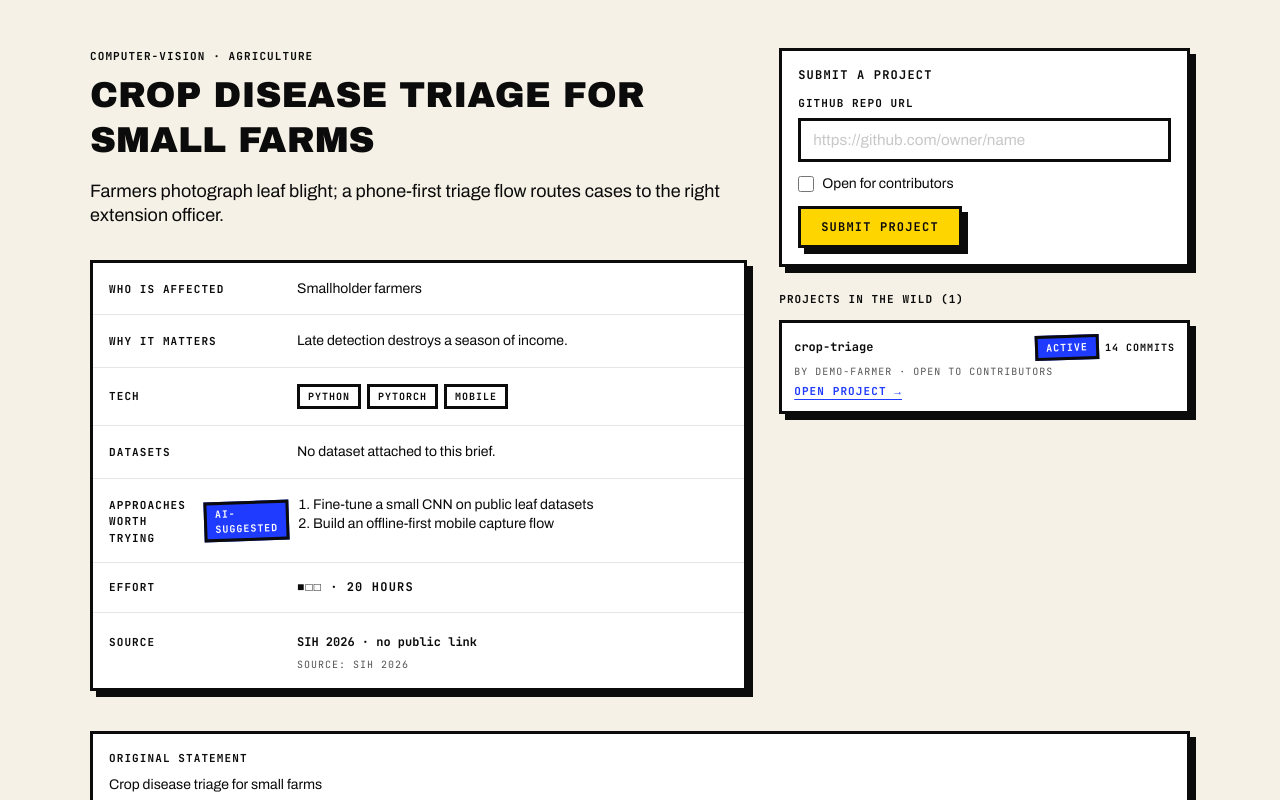
Test: ProblemDetailPage › surfaces server-side 422 details
Expected: the heading "Submit a project" is shown, left=798, top=67, right=933, bottom=83
In the field labelled "GitHub repo URL": {"x": 985, "y": 140} left=798, top=118, right=1171, bottom=162, type "https://github.com/tester/again"
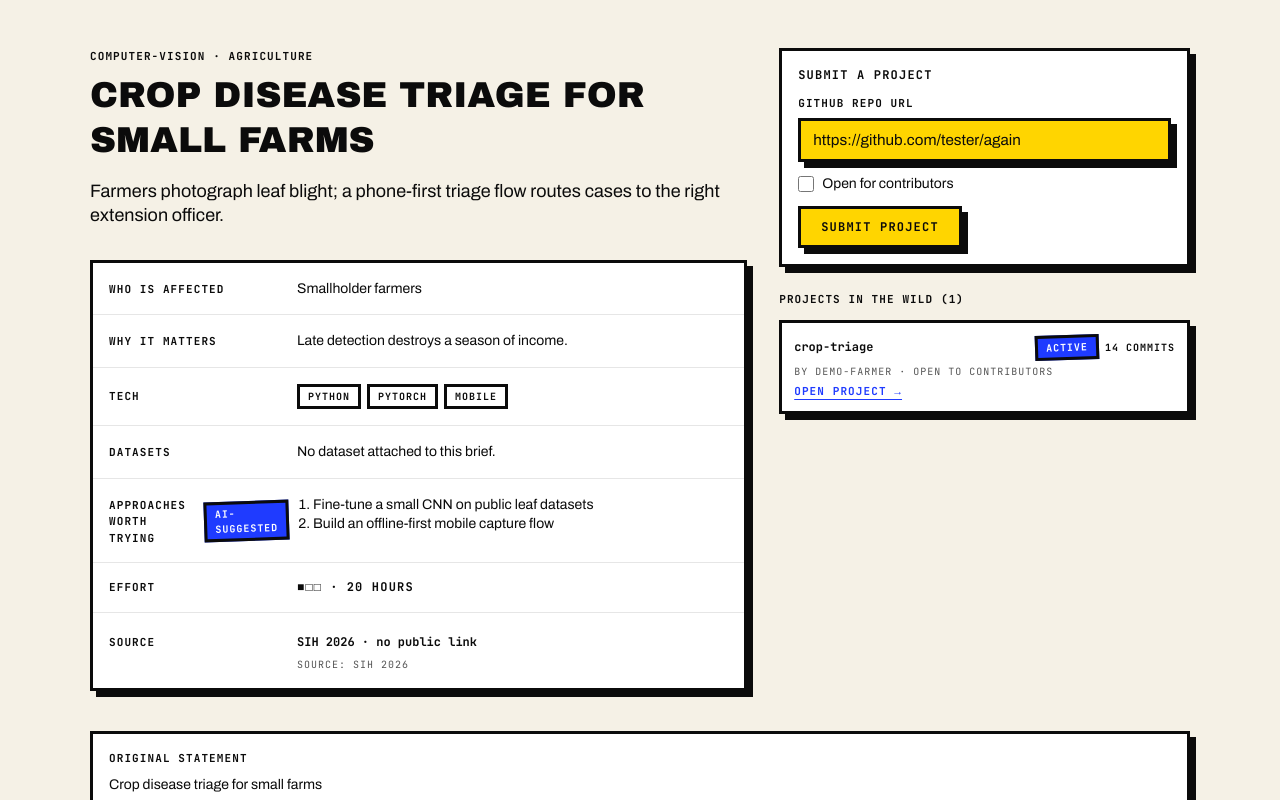
Click the button "Submit project": {"x": 880, "y": 227} left=798, top=206, right=962, bottom=248
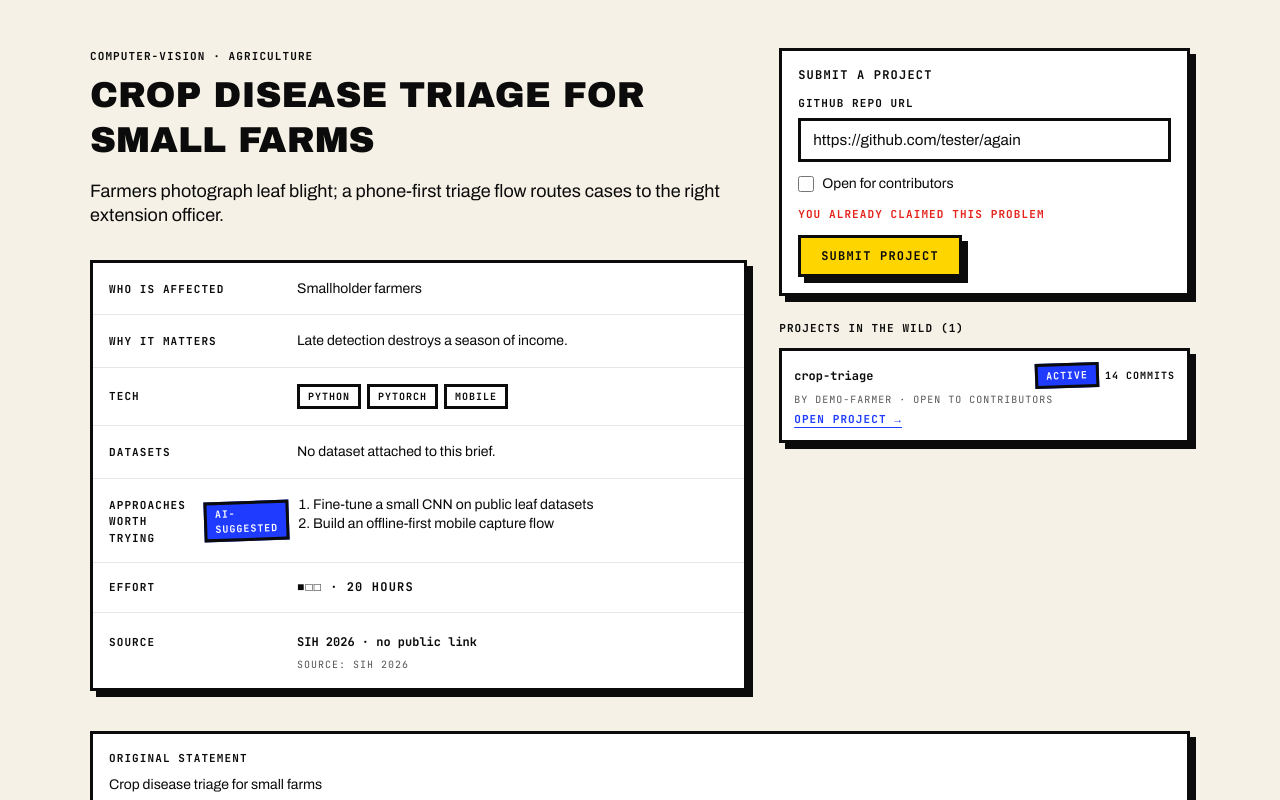
Expected: the text "You already claimed this problem" is shown, left=798, top=207, right=1045, bottom=221
